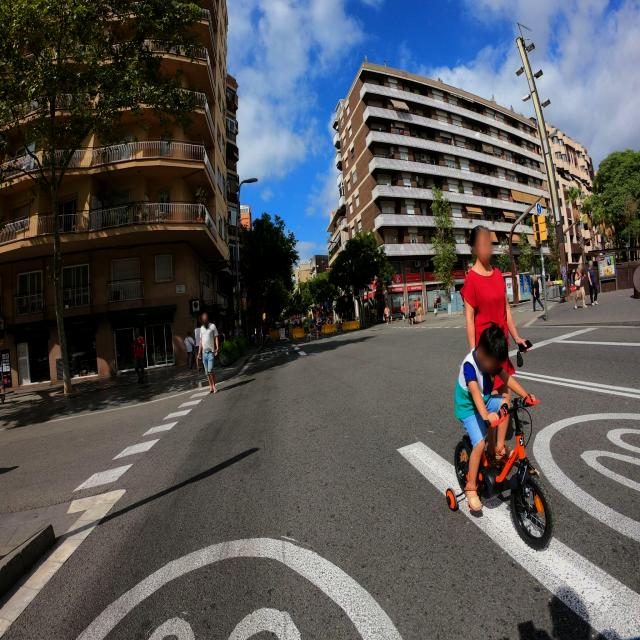bike: (449, 300, 550, 553)
